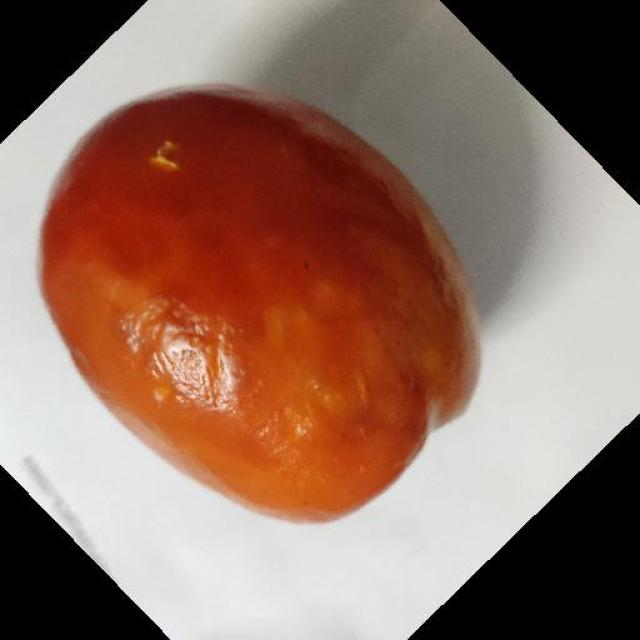Stale_tomato: (53, 114, 477, 479)
